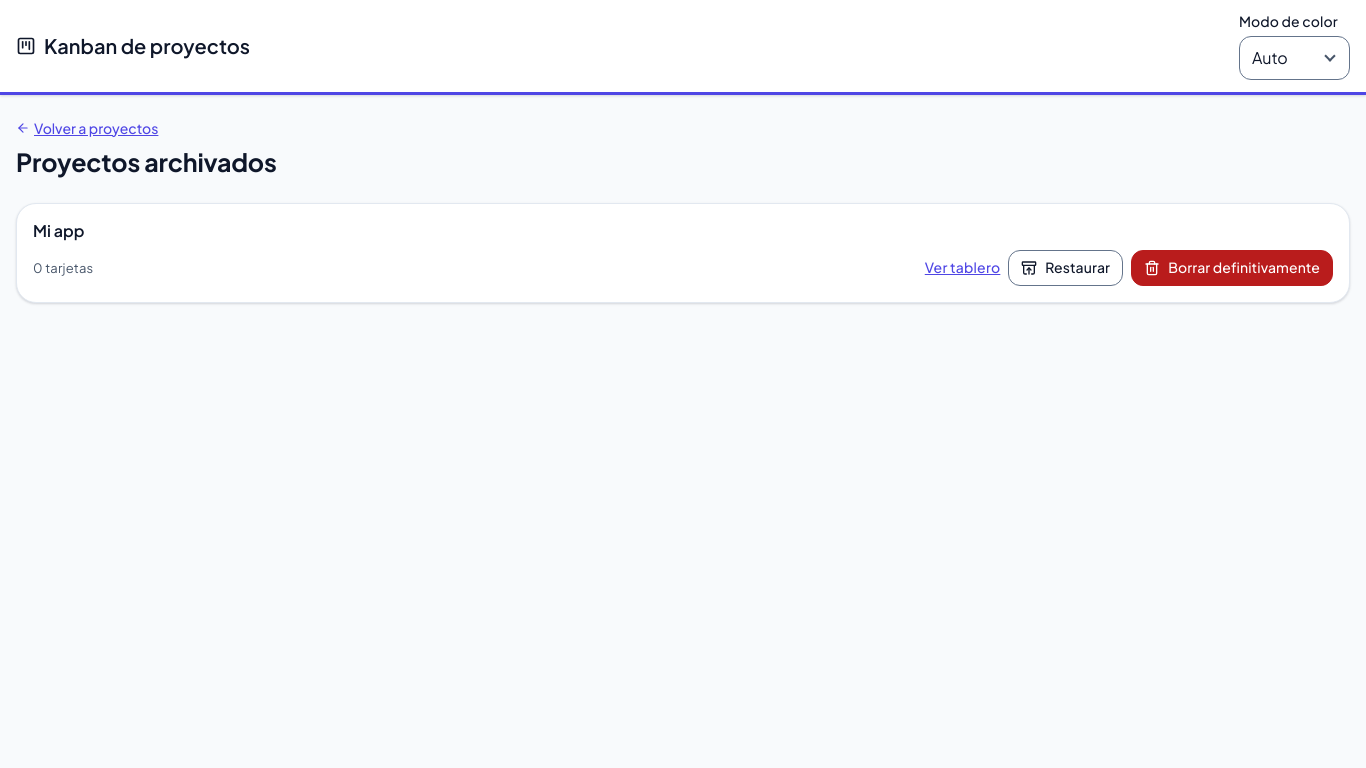
Test: App › borrar definitivamente un proyecto archivado lo elimina con sus tarjetas (AC-027)
expect the list item "Mi app" is shown: met, box [16, 203, 1350, 303]
Click the button with aria-label "Borrar definitivamente Mi app" at [1232, 268], box [1131, 250, 1333, 286]
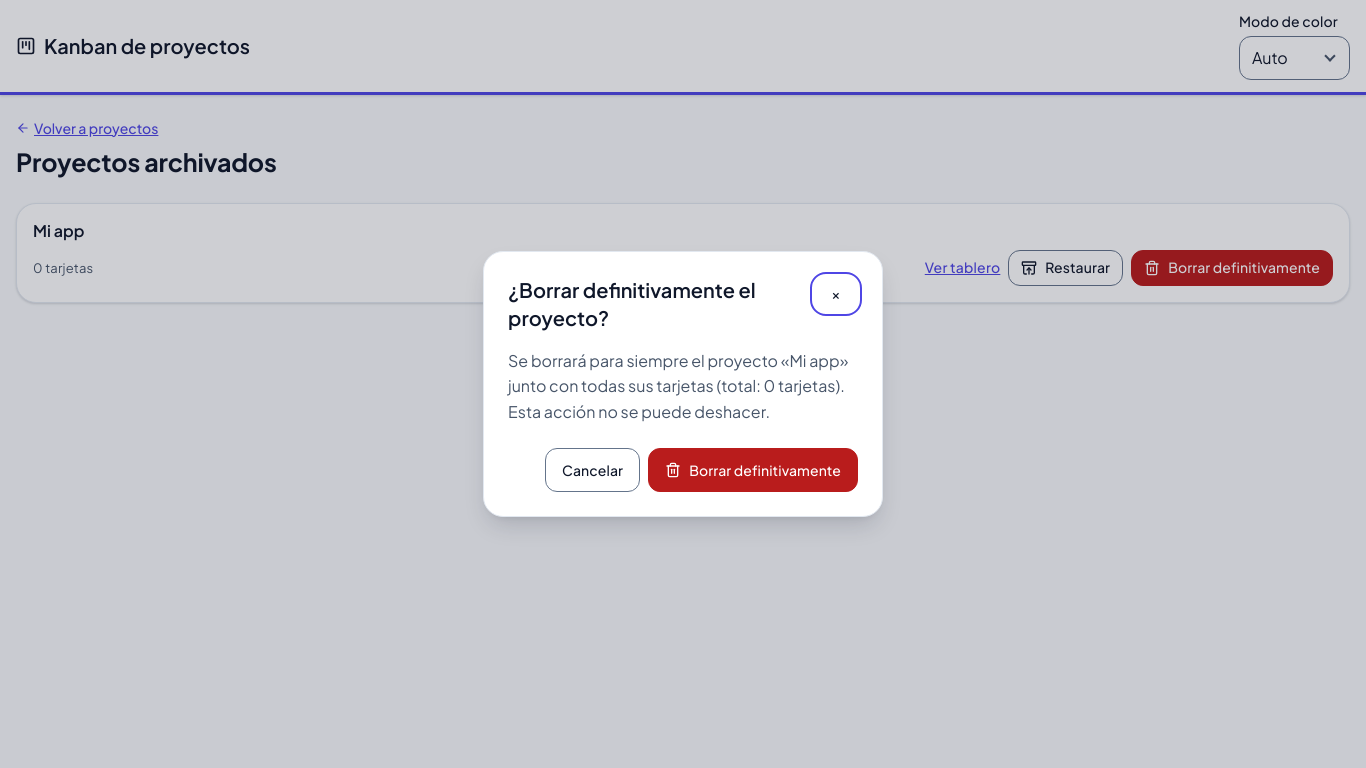
expect the dialog "¿Borrar definitivamente el proyecto?" shows "«Mi app»": met, box [508, 350, 848, 422]
expect the dialog "¿Borrar definitivamente el proyecto?" shows "0 tarjetas": met, box [508, 350, 848, 422]
Click the button "Borrar definitivamente" at [753, 470], box [648, 448, 858, 492]
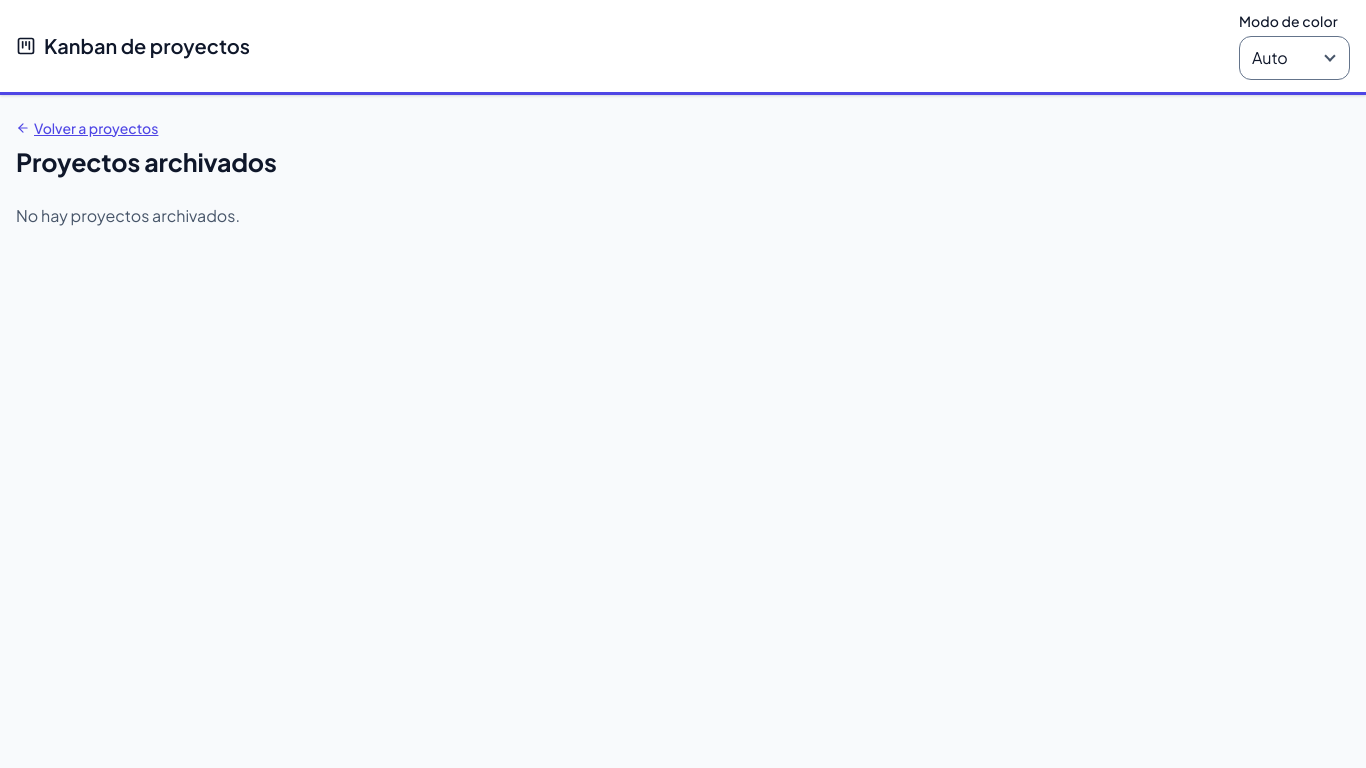
expect the heading "Mi app" is gone: met
